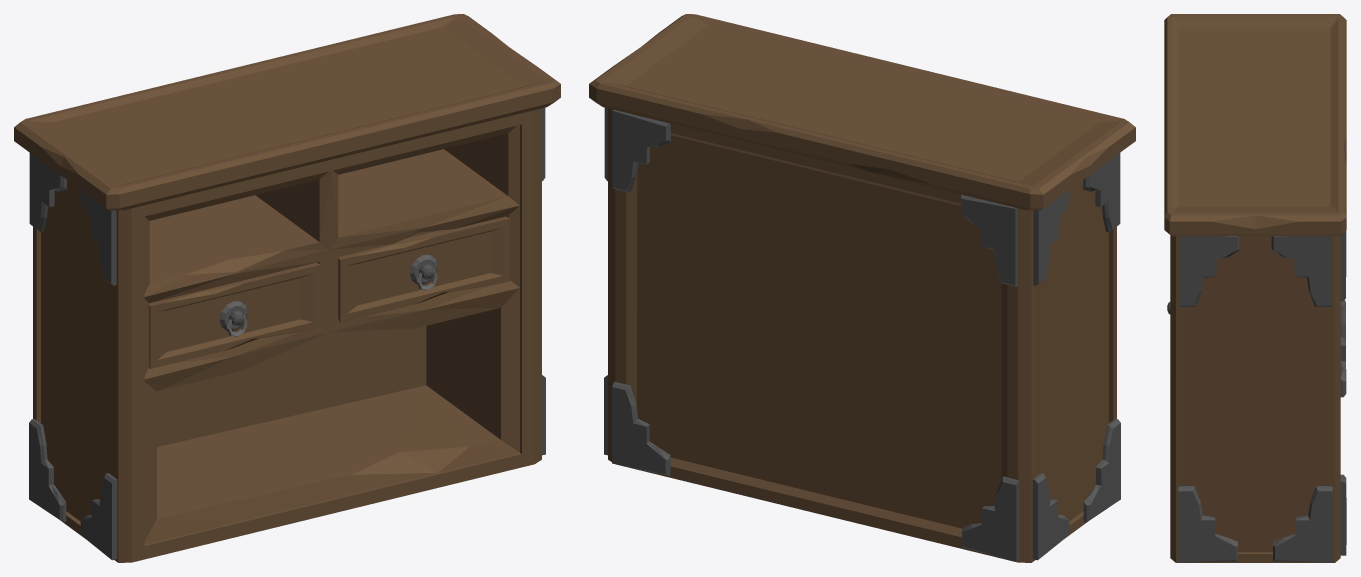
The model's file is Shelving_015.fbx.
3 renders of one model, left to right at view 1: azimuth 30°, elevation 25°; view 2: azimuth 150°, elevation 25°; view 3: azimuth 270°, elevation 25°, orthographic. The views are drawn at different scales.
Visible parts, largest first — view 1: Shelving_015; view 2: Shelving_015; view 3: Shelving_015.
Part boxes in pixels (x1,y1,x2,y2): Shelving_015: (14,14,560,562); Shelving_015: (589,14,1135,562); Shelving_015: (1164,14,1346,562).
Size of the model in its own units: 1.15 by 0.9119 by 0.4284.
